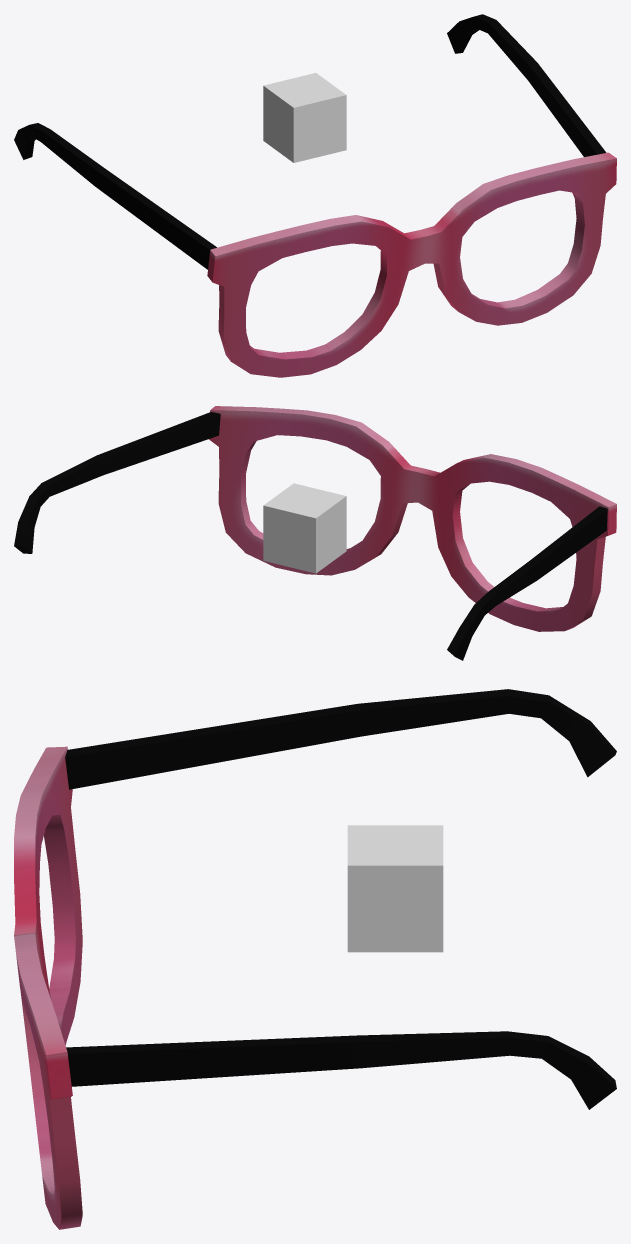
Rendered from girl_glasses1.FBX.
The picture shows the model from 3 angles, top to bottom: view 1: azimuth 30°, elevation 25°; view 2: azimuth 150°, elevation 25°; view 3: azimuth 270°, elevation 25°; orthographic projection. The views are drawn at different scales.
Parts seen in each view (by area): view 1: girl_glasses015, faceSpawn; view 2: girl_glasses015, faceSpawn; view 3: girl_glasses015, faceSpawn.
Boxes of the visible parts, x1,y1,x2,y2 form: girl_glasses015: (14,14,616,377); faceSpawn: (263,73,346,162); girl_glasses015: (14,406,616,660); faceSpawn: (263,483,346,573); girl_glasses015: (14,689,616,1229); faceSpawn: (347,825,443,952).
Bounding box in the file's own units: 43.16 × 16.01 × 31.53.
